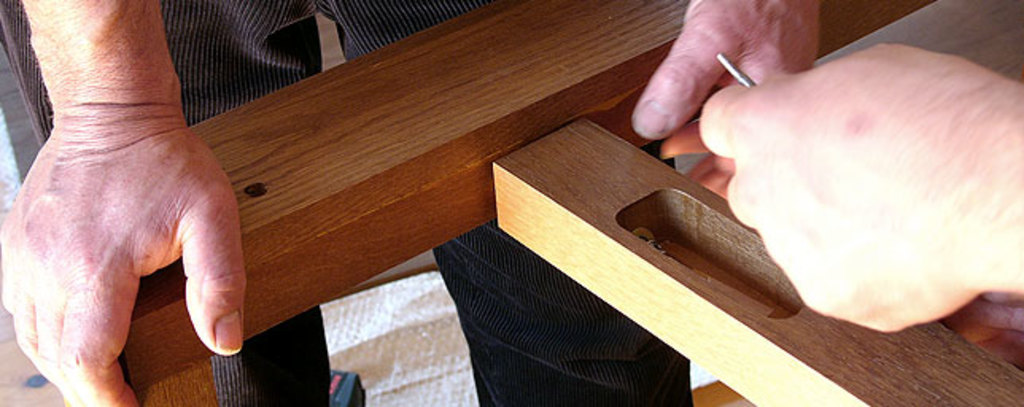Person: (0, 0, 819, 407), (699, 41, 1023, 333)
